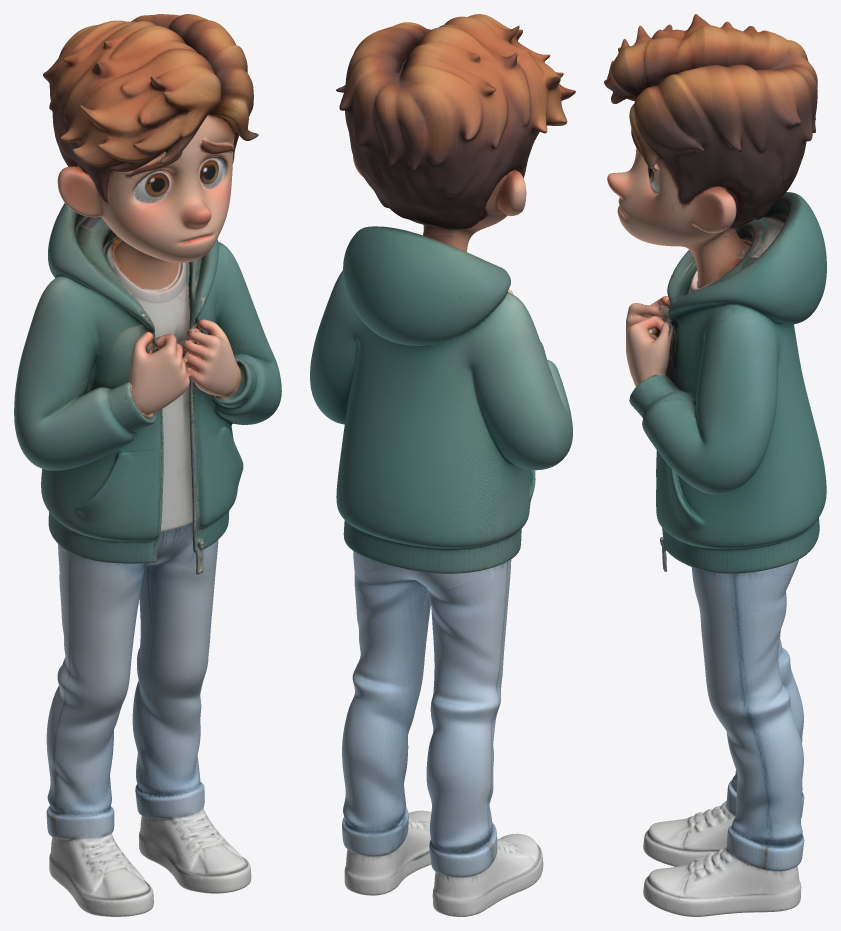
Rendered from dependent_part.glb.
3 renders of one model, left to right at view 1: azimuth 30°, elevation 25°; view 2: azimuth 150°, elevation 25°; view 3: azimuth 270°, elevation 25°, orthographic.
Bounding box in the file's own units: 0.6215 × 2 × 0.4757.
1 material, 1 textured.
